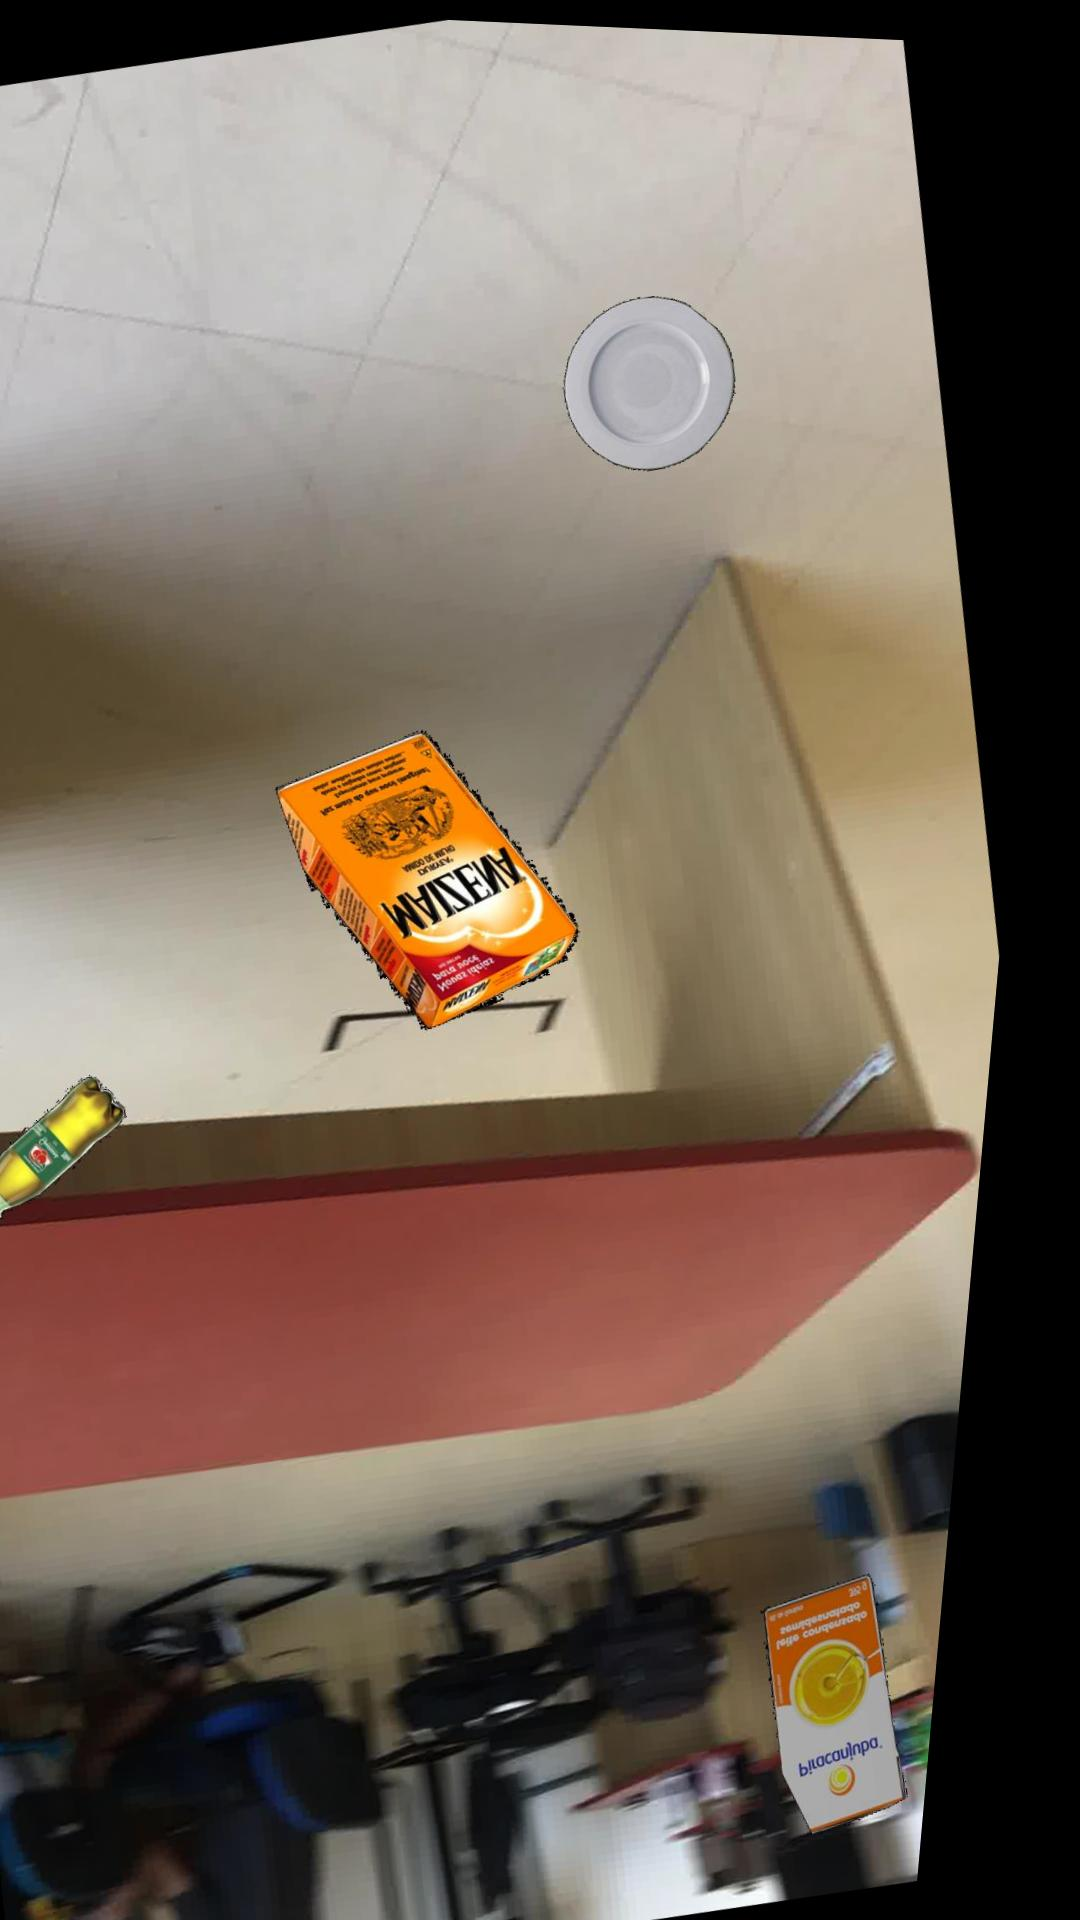guarana: (0, 1076, 148, 1230)
plate: (572, 291, 744, 465)
